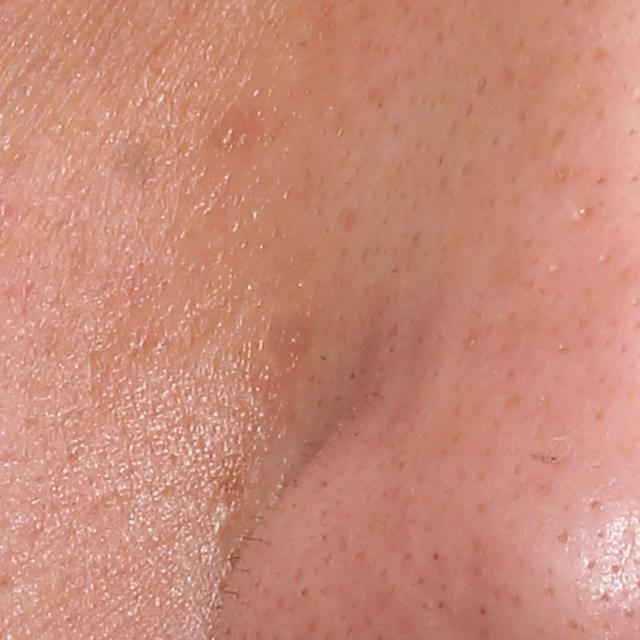atrophic_scar: (556, 200, 596, 236)
